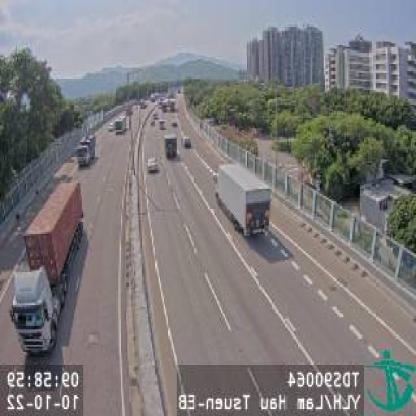Car: (112, 115, 126, 135), (177, 134, 189, 153), (146, 157, 158, 174), (155, 115, 164, 128), (182, 135, 191, 147)
Truck: (11, 179, 86, 356), (214, 158, 270, 236), (76, 134, 97, 169), (164, 135, 178, 160)
